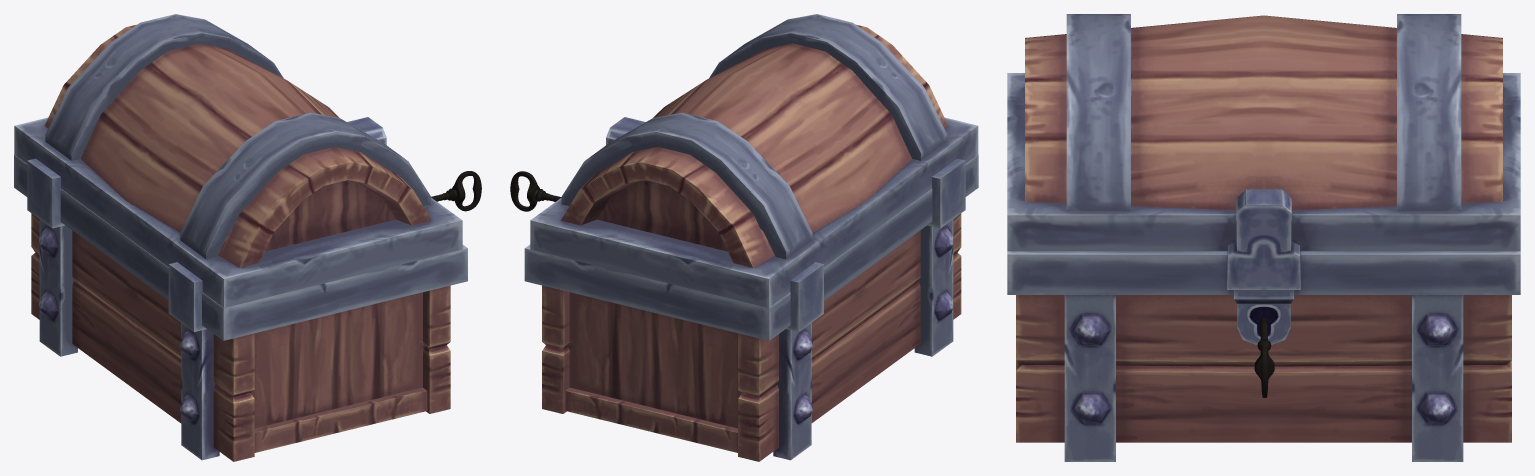
The model's file is minichest.glb.
3 renders of one model, left to right at view 1: azimuth 30°, elevation 25°; view 2: azimuth 150°, elevation 25°; view 3: azimuth 270°, elevation 25°, orthographic. The views are drawn at different scales.
Visible parts, largest first — view 1: Chest_top_0, Merged Objects, Key_1; view 2: Chest_top_0, Merged Objects, Key_1; view 3: Chest_top_0, Merged Objects, Key_1.
Part boxes in pixels (bbox=[...]): Chest_top_0: bbox=[14, 14, 462, 307]; Merged Objects: bbox=[14, 154, 467, 461]; Key_1: bbox=[431, 171, 481, 211]; Chest_top_0: bbox=[530, 14, 978, 307]; Merged Objects: bbox=[524, 154, 978, 461]; Key_1: bbox=[510, 171, 561, 211]; Chest_top_0: bbox=[1007, 14, 1520, 289]; Merged Objects: bbox=[1007, 251, 1520, 461]; Key_1: bbox=[1254, 317, 1274, 397].
Size of the model in its own units: 2.75 by 2.09 by 2.69.
Materials: 2 (2 with a texture image).
